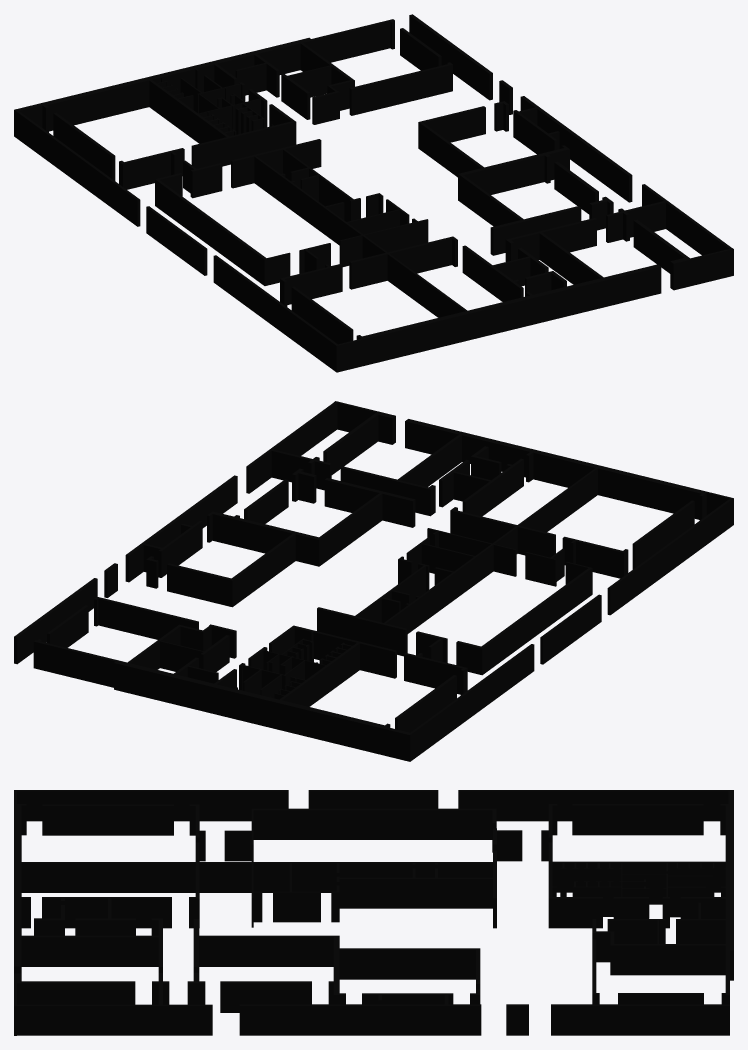
Rendered from WallsModel.fbx.
3 views of the same model, one above another, from view 1: azimuth 30°, elevation 25°; view 2: azimuth 150°, elevation 25°; view 3: azimuth 270°, elevation 25° (orthographic). The views are drawn at different scales.
Visible parts, largest first — view 1: node_id3; view 2: node_id3; view 3: node_id3.
Part boxes in pixels (x1,y1,x2,y2): node_id3: (14, 14, 733, 372); node_id3: (14, 401, 733, 761); node_id3: (14, 790, 733, 1035).
Bounding box in the file's own units: 0.512 × 0.0328 × 0.7206.
Materials: 1 (1 with a texture image).
